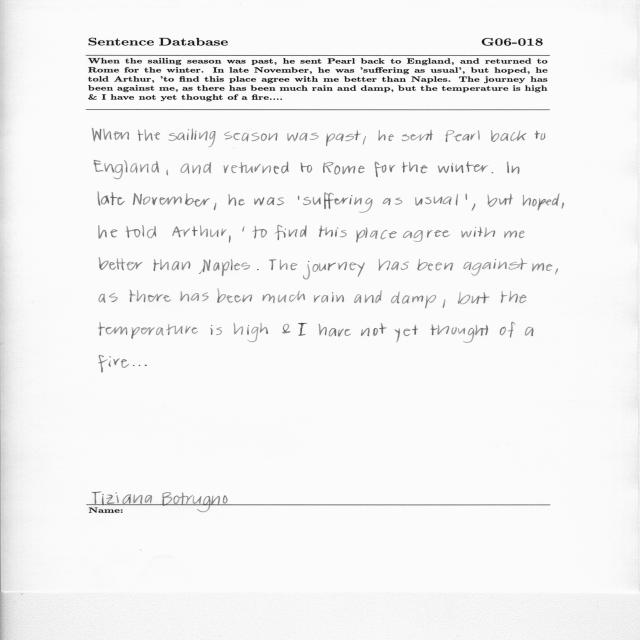word: (99, 322, 198, 339), (303, 192, 373, 213), (94, 161, 159, 180), (303, 261, 365, 280), (464, 258, 528, 276), (431, 324, 489, 343), (133, 193, 210, 207), (169, 129, 216, 148), (199, 259, 250, 276), (223, 162, 289, 174), (391, 292, 436, 309), (234, 323, 269, 342), (172, 226, 227, 238), (523, 194, 560, 211), (356, 228, 397, 243), (438, 161, 488, 173), (99, 258, 143, 271), (403, 230, 450, 242), (326, 131, 361, 147), (323, 162, 365, 175), (224, 132, 278, 142), (217, 288, 253, 303), (415, 194, 458, 206), (262, 291, 305, 303), (99, 356, 129, 373), (93, 128, 129, 142), (130, 290, 172, 302), (275, 225, 307, 240), (154, 259, 191, 271), (417, 259, 453, 271), (318, 324, 351, 337), (445, 130, 480, 142), (491, 130, 526, 142), (394, 325, 418, 342), (126, 225, 157, 238), (458, 292, 490, 304), (461, 227, 495, 238), (402, 130, 433, 142), (378, 259, 409, 271), (354, 290, 382, 303), (181, 162, 211, 174), (98, 192, 125, 205), (487, 194, 513, 207), (361, 323, 387, 336), (319, 226, 347, 238), (314, 292, 344, 303), (180, 291, 209, 302), (501, 291, 527, 303), (269, 260, 297, 271), (375, 162, 395, 177), (287, 133, 319, 142), (402, 162, 428, 173), (99, 225, 118, 239), (138, 129, 160, 141), (254, 197, 284, 205), (500, 322, 515, 338), (228, 194, 245, 206), (252, 226, 267, 239), (99, 293, 118, 303), (532, 263, 553, 272), (378, 130, 394, 141), (504, 231, 525, 239), (383, 198, 403, 206), (507, 162, 519, 174), (301, 162, 313, 173), (210, 325, 222, 335), (298, 323, 307, 336), (535, 131, 546, 141), (525, 327, 534, 336), (282, 324, 290, 333), (472, 203, 476, 211), (363, 136, 366, 145), (443, 299, 446, 308), (561, 202, 564, 209), (555, 269, 558, 275), (214, 203, 216, 210), (229, 236, 231, 243), (133, 365, 147, 366), (166, 170, 168, 176), (243, 226, 245, 232), (466, 194, 467, 200), (298, 196, 299, 200), (492, 172, 494, 173), (257, 269, 259, 270)
